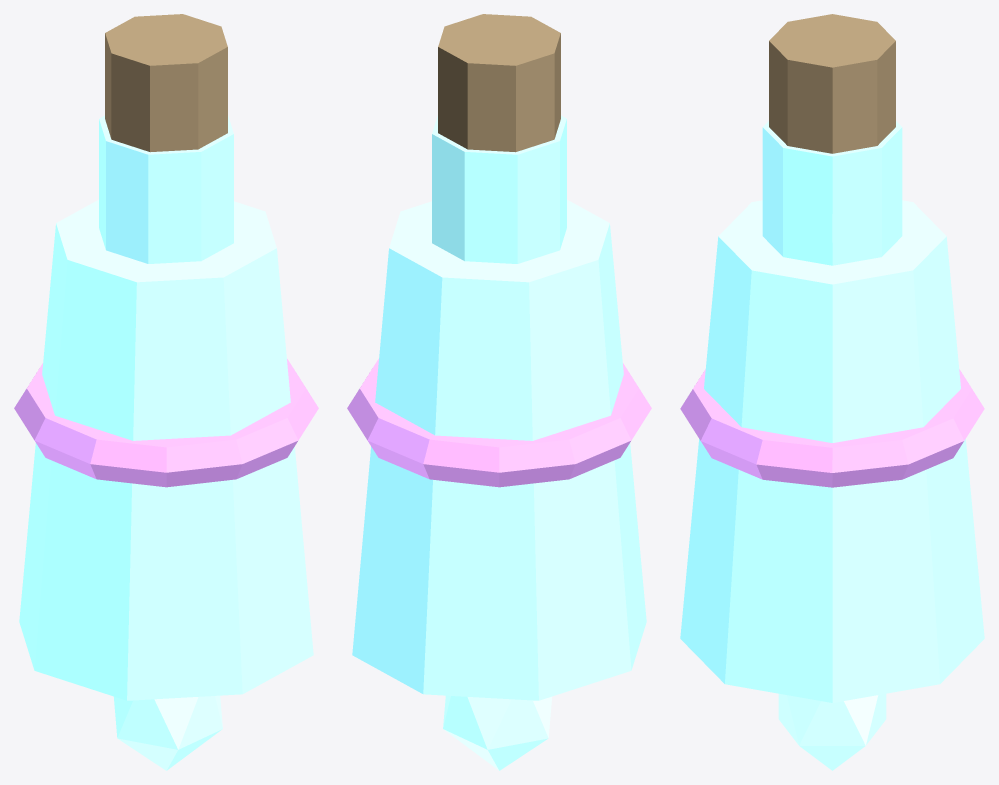
File: glue.glb
3 views of the same model, side by side, from view 1: azimuth 30°, elevation 25°; view 2: azimuth 150°, elevation 25°; view 3: azimuth 270°, elevation 25° (orthographic).
Parts seen in each view (by area): view 1: PangGlueBody; view 2: PangGlueBody; view 3: PangGlueBody.
Boxes of the visible parts, x1,y1,x2,y2 form: PangGlueBody: (14, 14, 318, 770); PangGlueBody: (347, 14, 651, 770); PangGlueBody: (680, 14, 984, 770).
Size of the model in its own units: 0.48 by 1.27 by 0.48.
